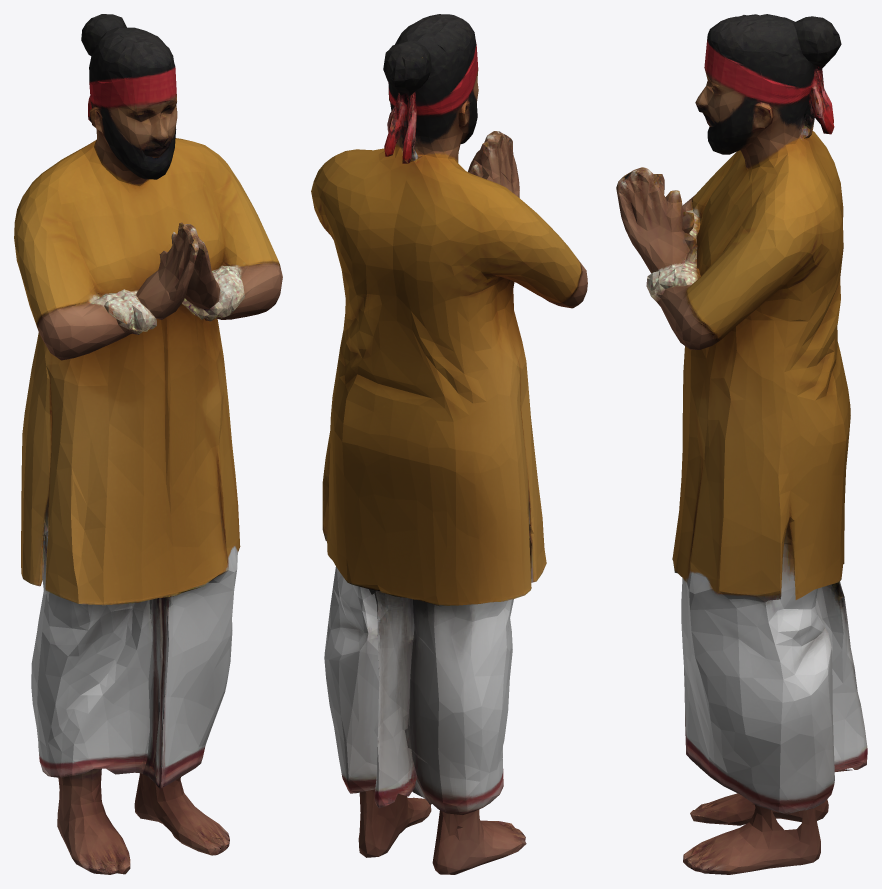
File: man_standing_1.glb
The picture shows the model from 3 angles, left to right: view 1: azimuth 30°, elevation 25°; view 2: azimuth 150°, elevation 25°; view 3: azimuth 270°, elevation 25°; orthographic projection. The views are drawn at different scales.
Visible parts, largest first — view 1: world; view 2: world; view 3: world.
Part boxes in pixels (x1,y1,x2,y2): world: (14, 14, 282, 874); world: (311, 14, 587, 874); world: (616, 14, 867, 874).
Size of the model in its own units: 0.3103 by 1 by 0.2777.
Materials: 1 (1 with a texture image).
